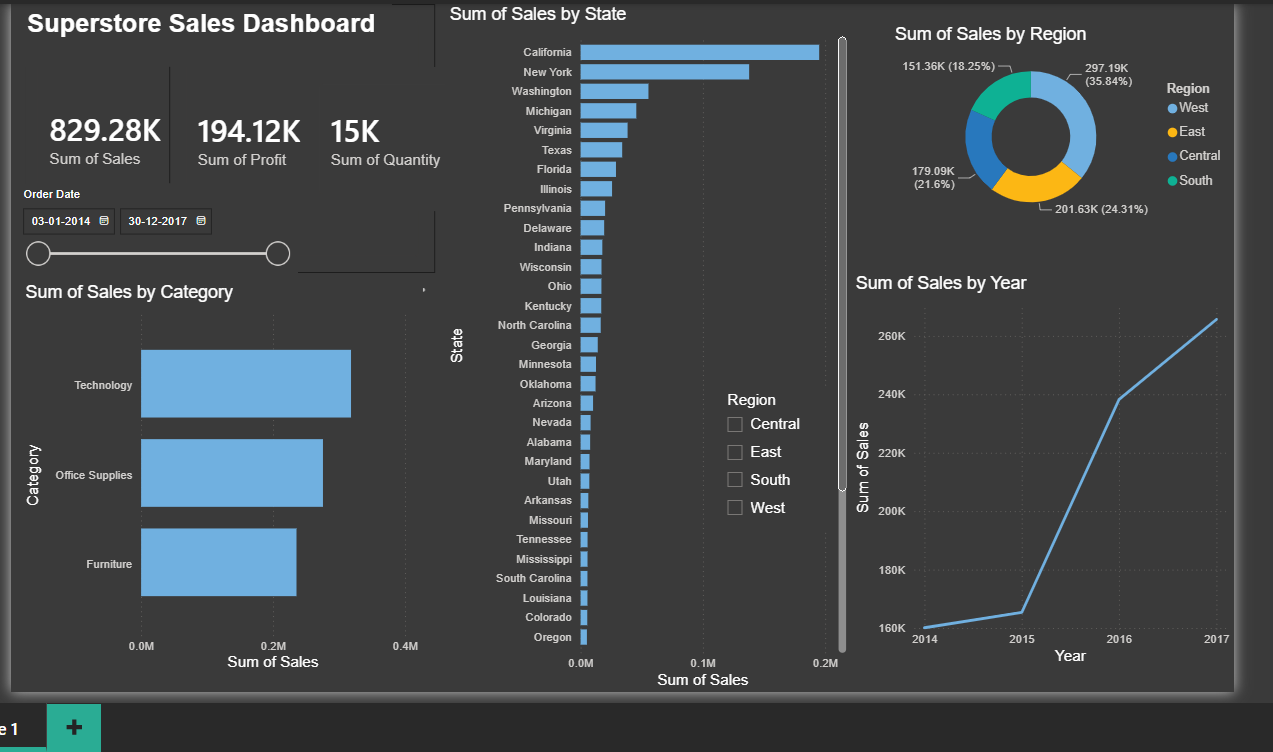

The dashboard page shown, as its layout file describes it:
{"tool":"powerbi","page":{"name":"Page 1","canvas":[1280,720],"ordinal":0},"visuals":[{"type":"cardVisual","fields":{"Data":["Sum(rawsuperstore_cleaned.Sales)"]},"box":[10,0,280,280],"z":0},{"type":"cardVisual","fields":{"Data":["Sum(rawsuperstore_cleaned.Profit)"]},"box":[165.5,0,278.3,281.2],"z":1000},{"type":"cardVisual","fields":{"Data":["Sum(rawsuperstore_cleaned.Quantity)"]},"box":[304.6,65.9,279.7,150.9],"z":2000},{"type":"clusteredBarChart","fields":{"Y":["Sum(rawsuperstore_cleaned.Sales)"],"Category":["rawsuperstore_cleaned.Category"]},"box":[10,289.5,421,412.6],"z":3000},{"type":"lineChart","fields":{"Category":["rawsuperstore_cleaned.Order Date.Variation.Date Hierarchy.Year","rawsuperstore_cleaned.Order Date.Variation.Date Hierarchy.Quarter","rawsuperstore_cleaned.Order Date.Variation.Date Hierarchy.Month","rawsuperstore_cleaned.Order Date.Variation.Date Hierarchy.Day"],"Y":["Sum(rawsuperstore_cleaned.Sales)"]},"box":[878.8,281.2,401.3,414.5],"z":4000},{"type":"barChart","fields":{"Y":["Sum(rawsuperstore_cleaned.Sales)"],"Category":["rawsuperstore_cleaned.State"]},"box":[454,0,424.7,720.6],"z":5000},{"type":"donutChart","fields":{"Y":["Sum(rawsuperstore_cleaned.Sales)"],"Category":["rawsuperstore_cleaned.Region"]},"box":[919.8,20.5,360.3,215.3],"z":6000},{"type":"slicer","fields":{"Values":["rawsuperstore_cleaned.Order Date"]},"box":[0,187.5,300.2,98.1],"z":7000},{"type":"slicer","fields":{"Values":["rawsuperstore_cleaned.Region"]},"box":[736.7,399.8,117.2,150.9],"z":8000},{"type":"textbox","box":[0,0,398.4,65.9],"z":9000}]}

Visuals, with their boxes on the page's 1280x720 design canvas (x1, y1, x2, y2). These are canvas units, not pixel positions in the 1273x752 screenshot, which may show the page scaled, cropped or inside an application window:
cardVisual - Sum(rawsuperstore_cleaned.Sales): [10,0,290,280]
cardVisual - Sum(rawsuperstore_cleaned.Profit): [166,0,444,281]
cardVisual - Sum(rawsuperstore_cleaned.Quantity): [305,66,584,217]
clusteredBarChart - Sum(rawsuperstore_cleaned.Sales) x rawsuperstore_cleaned.Category: [10,290,431,702]
lineChart - rawsuperstore_cleaned.Order Date.Variation.Date Hierarchy.Year x rawsuperstore_cleaned.Order Date.Variation.Date Hierarchy.Quarter: [879,281,1280,696]
barChart - Sum(rawsuperstore_cleaned.Sales) x rawsuperstore_cleaned.State: [454,0,879,721]
donutChart - Sum(rawsuperstore_cleaned.Sales) x rawsuperstore_cleaned.Region: [920,20,1280,236]
slicer - rawsuperstore_cleaned.Order Date: [0,188,300,286]
slicer - rawsuperstore_cleaned.Region: [737,400,854,551]
textbox: [0,0,398,66]
